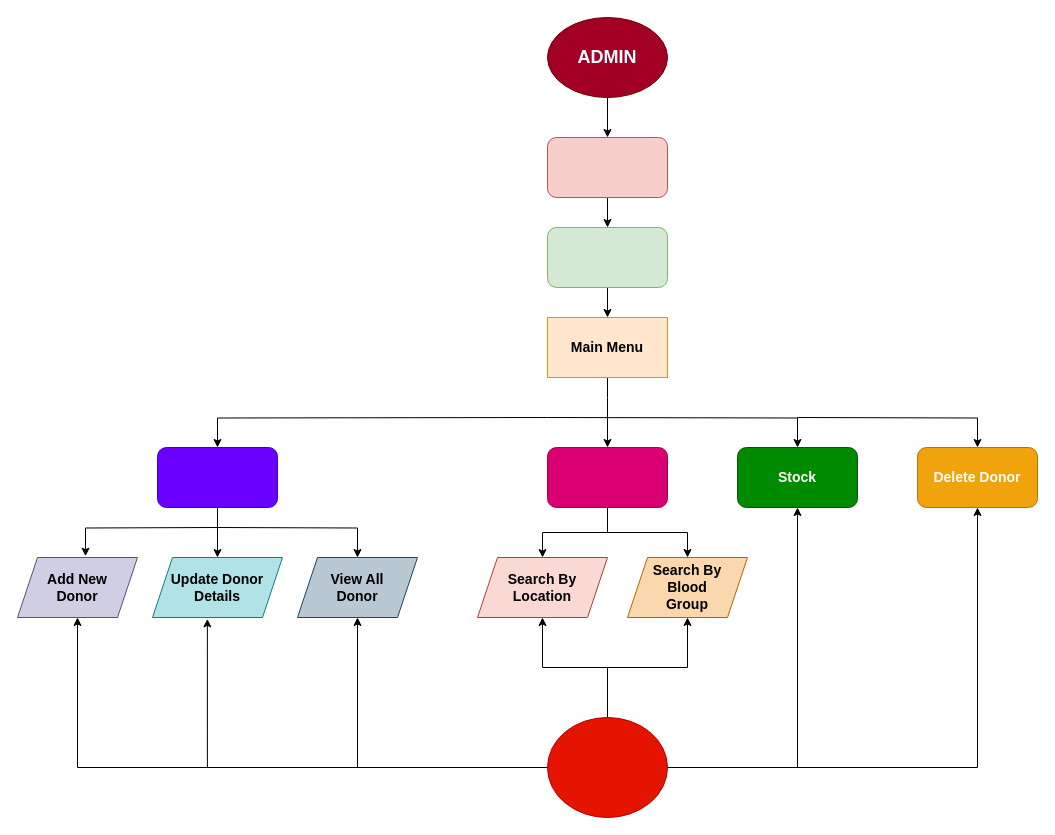
Image size: 1055x835. Some labels were removed from this diagram. Here are the shapes that lost their labels. From the top down, the centre of each, then its label:
At pixel 607 167: "Captcha".
At pixel 607 257: "Login".
At pixel 217 477: "Donor".
At pixel 607 477: "Search Blood Donor".
At pixel 607 767: "Logout or Exit".
